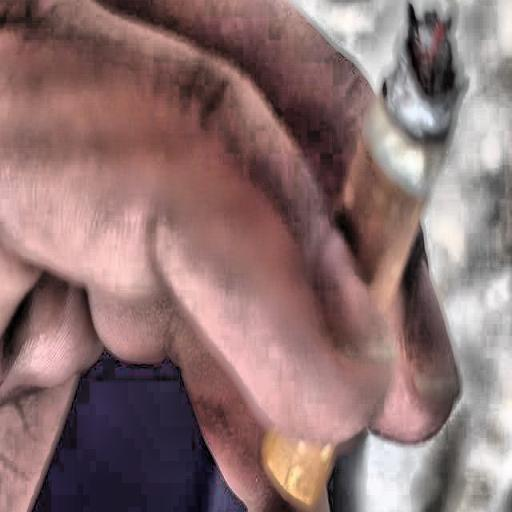Merokok: (339, 6, 459, 304), (264, 432, 326, 508)
